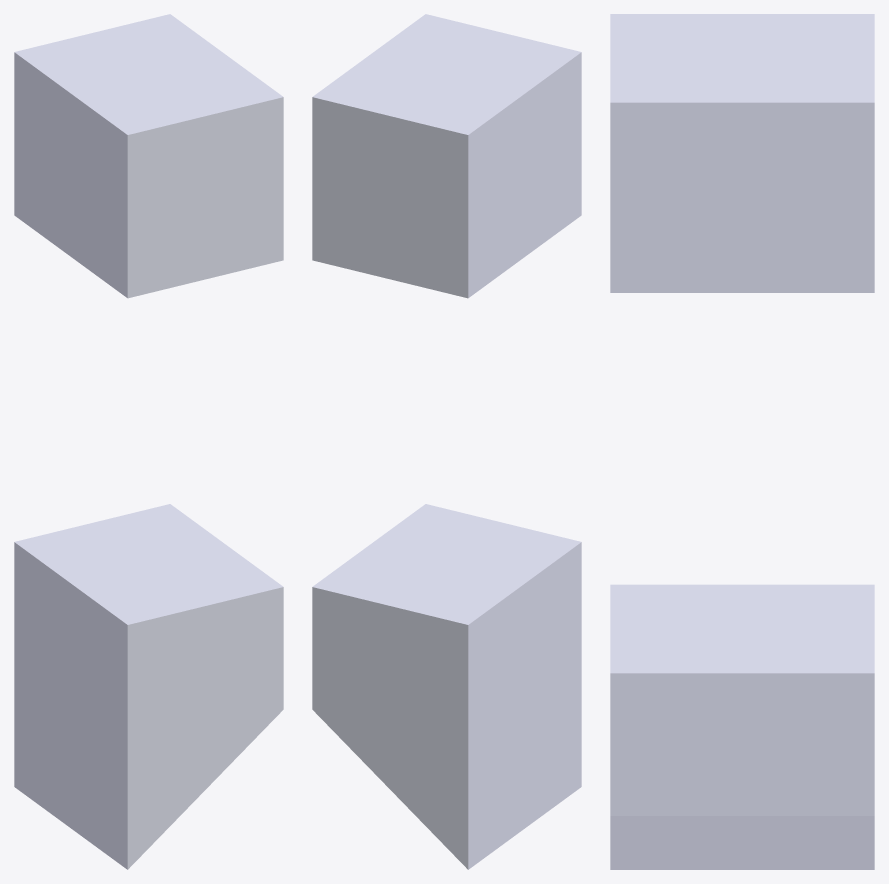
3 renders of one model, left to right at view 1: azimuth 30°, elevation 25°; view 2: azimuth 150°, elevation 25°; view 3: azimuth 270°, elevation 25°, orthographic. The views are drawn at different scales.
Parts seen in each view (by area): view 1: ;_DeltaBlock_Grey; view 2: ;_DeltaBlock_Grey; view 3: ;_DeltaBlock_Grey.
Part boxes in pixels (x1,y1,x2,y2): ;_DeltaBlock_Grey: (14, 14, 283, 869); ;_DeltaBlock_Grey: (312, 14, 581, 869); ;_DeltaBlock_Grey: (610, 14, 874, 869).
Size of what is drawn, in the model's own units: 0.0357 by 0.1607 by 0.045.
2 materials, 2 textured.
